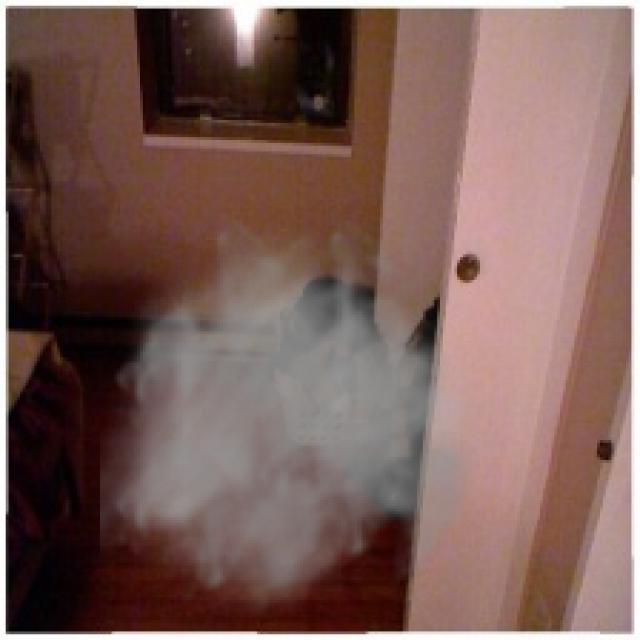smoke: (100, 214, 506, 623)
